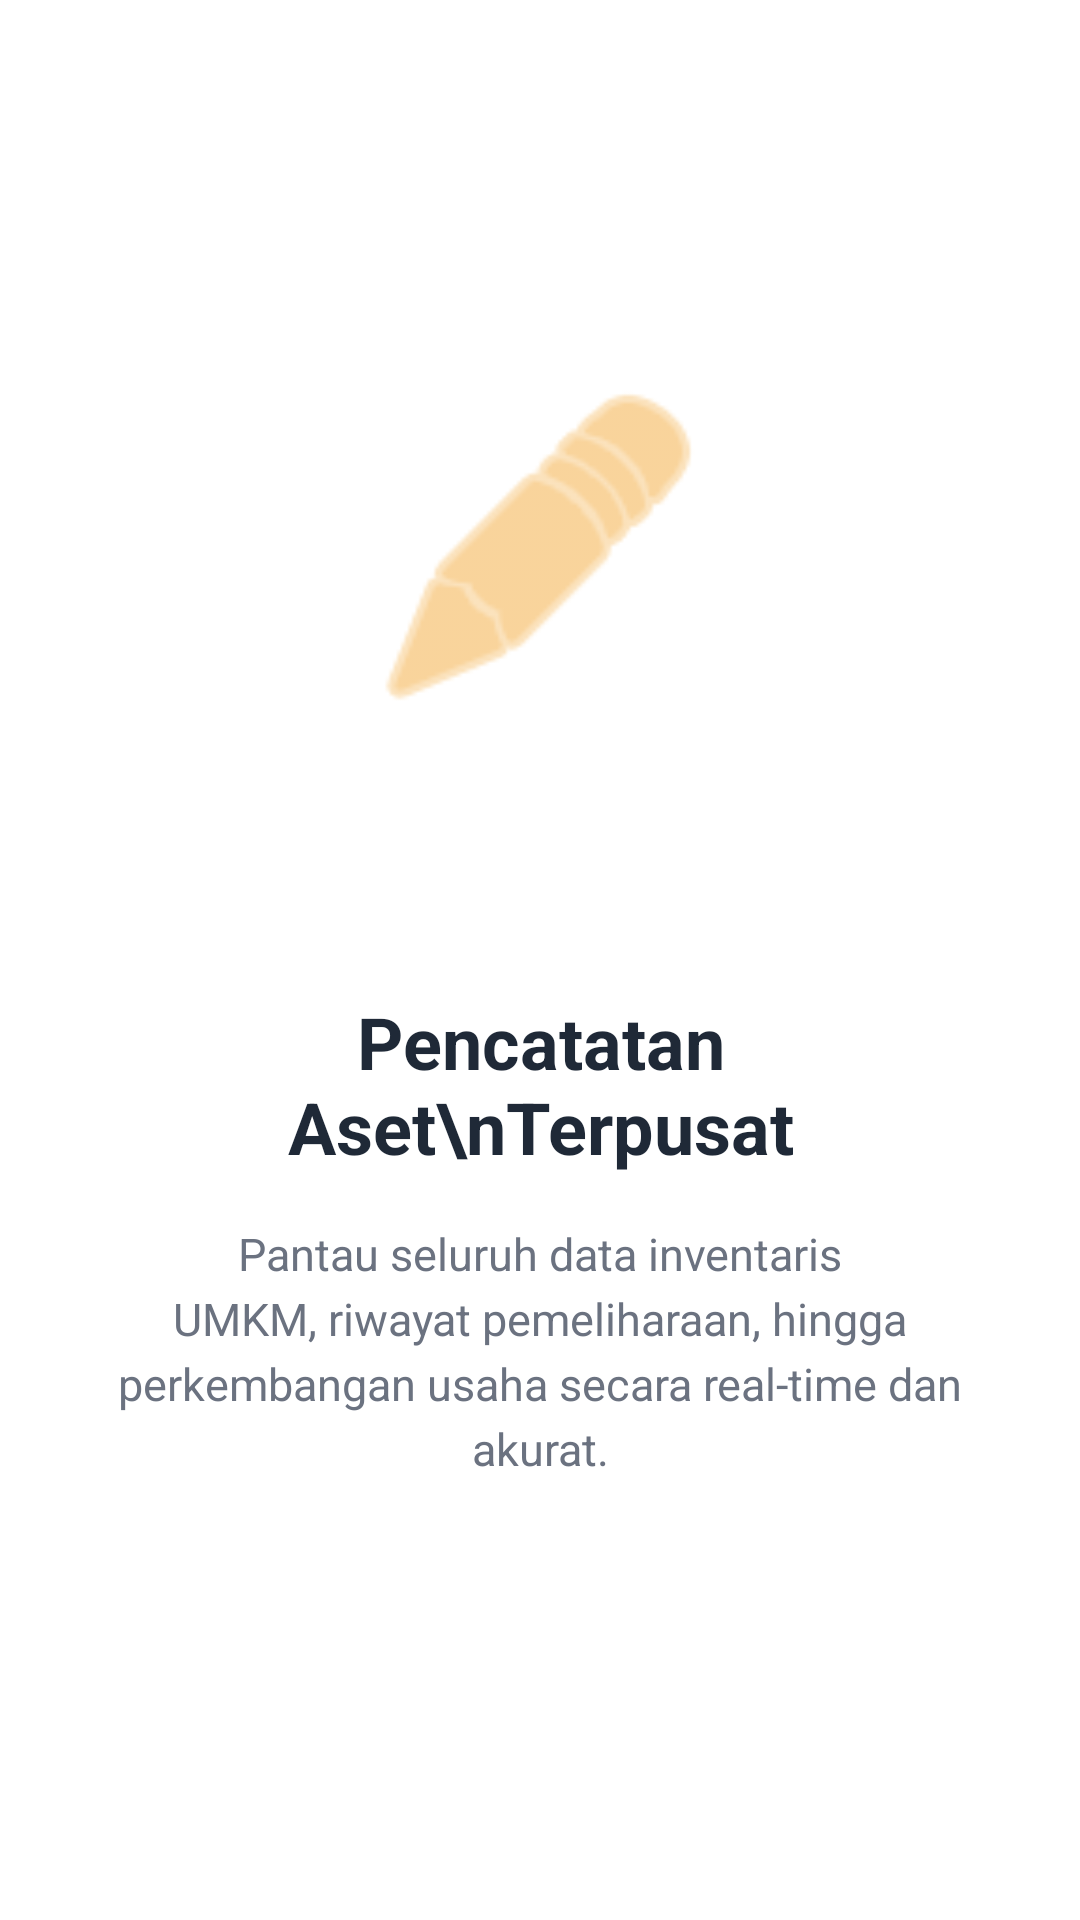

Icon bounding boxes for this 1080w x 1920h phone screenshot, format region(x1, y1, x2, y2):
edit: region(387, 395, 691, 699)
